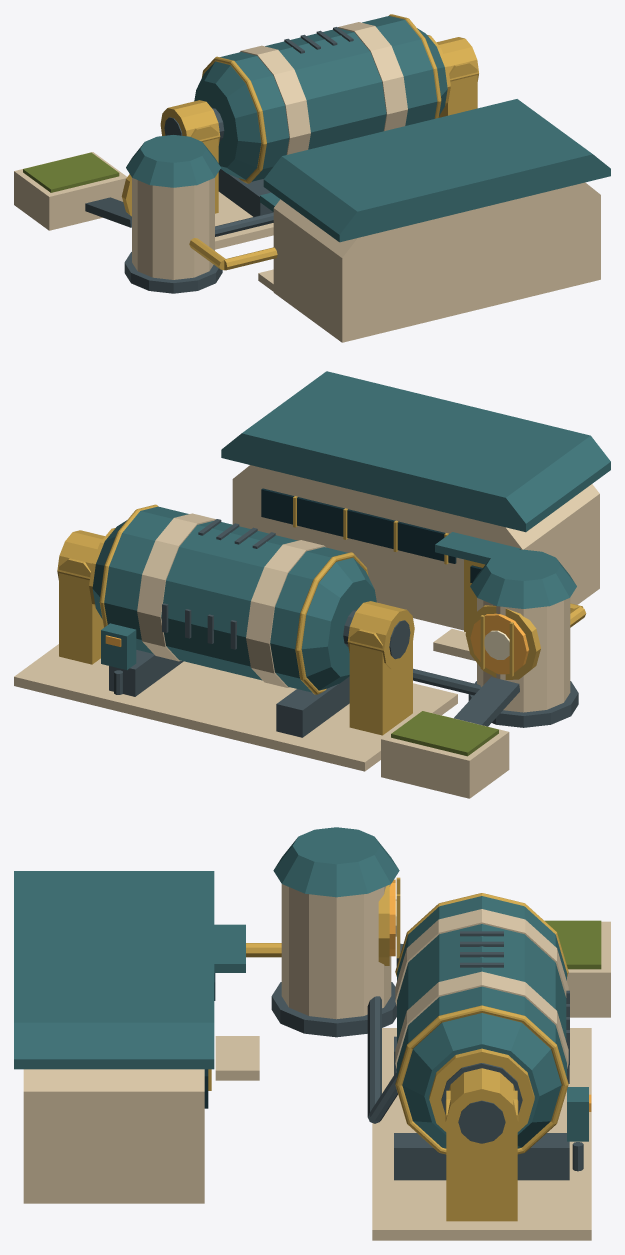
3 views of the same model, one above another, from view 1: azimuth 30°, elevation 25°; view 2: azimuth 150°, elevation 25°; view 3: azimuth 270°, elevation 25° (orthographic). The views are drawn at different scales.
Visible parts, largest first — view 1: Biomass power station; view 2: Biomass power station; view 3: Biomass power station.
Part boxes in pixels (bbox=[...]): Biomass power station: bbox=[14, 14, 610, 342]; Biomass power station: bbox=[14, 371, 610, 798]; Biomass power station: bbox=[14, 827, 610, 1240].
Size of the model in its own units: 11.5 by 3.84 by 10.88.
Materials: 1 (1 with a texture image).
